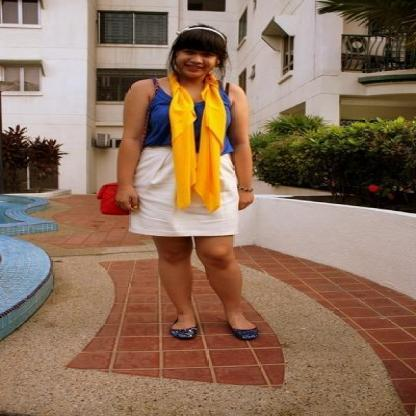bag: (97, 183, 134, 215)
shirt: (140, 75, 246, 157)
shoe: (168, 325, 258, 343)
skirt: (129, 147, 242, 240)
